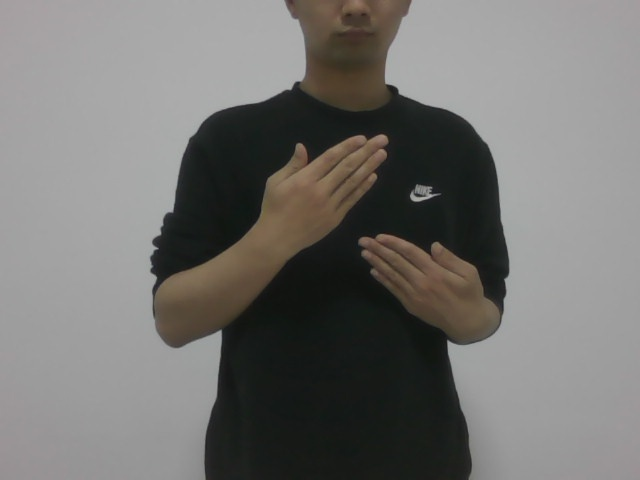tea: (214, 129, 480, 338)
